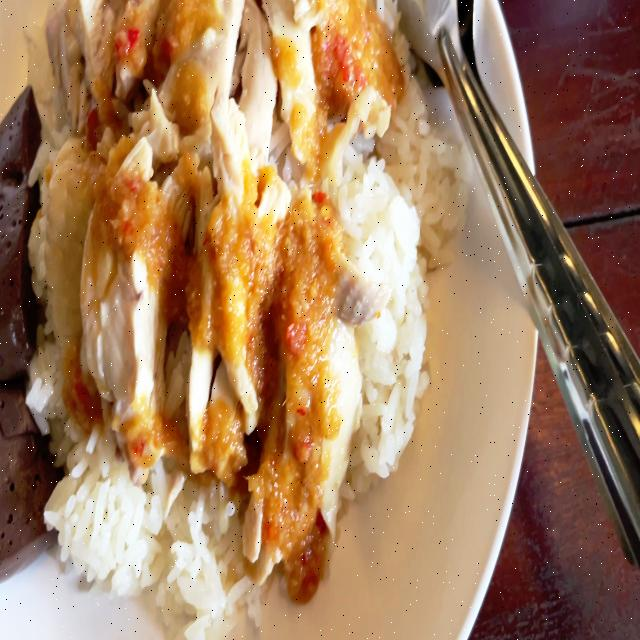boiled_chicken: (52, 0, 369, 534)
boiled_chicken_blood_jelly: (0, 80, 42, 376), (0, 372, 62, 560)
chicken_rice: (0, 0, 465, 640)
